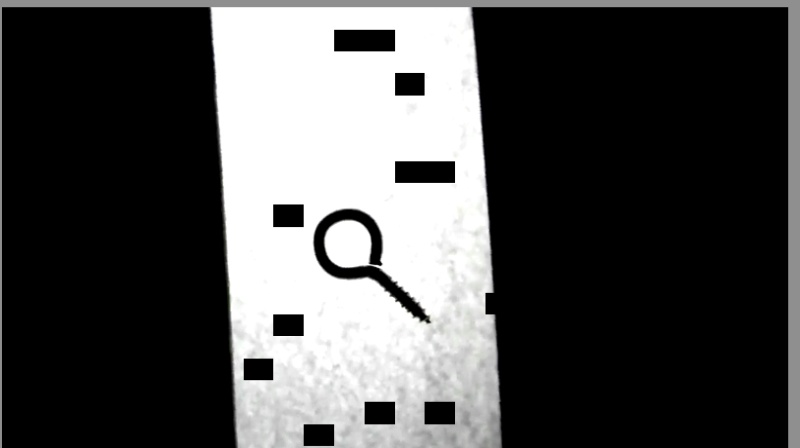O001: (307, 205, 440, 324)
